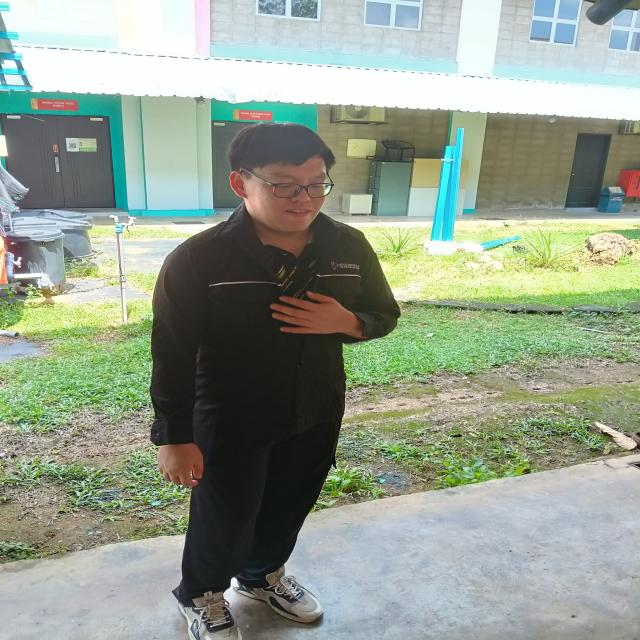person_with_labcoat: (150, 123, 400, 640)
